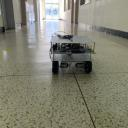cart: (50, 36, 96, 74)
